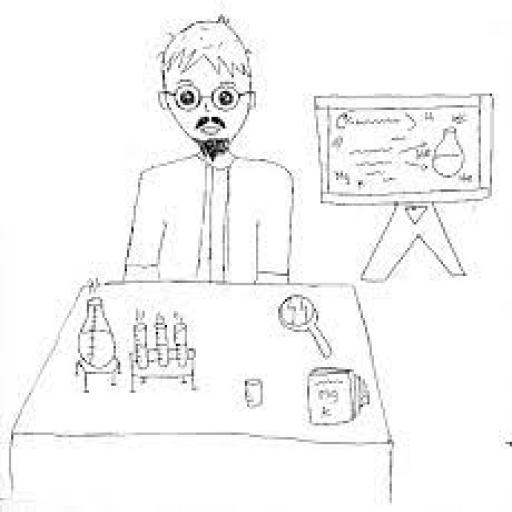person: (107, 18, 314, 286)
